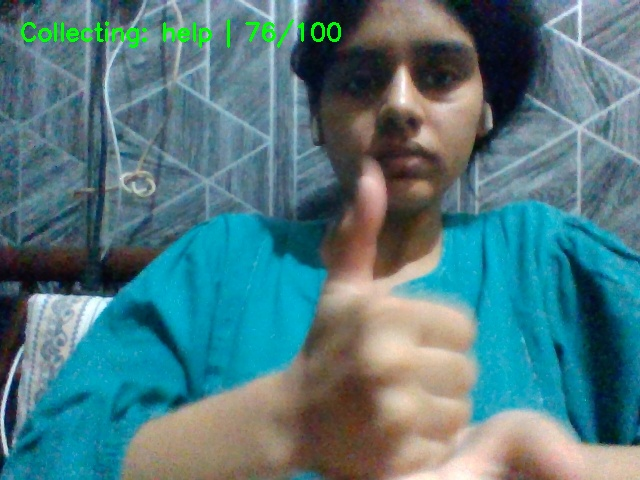help: (287, 152, 573, 480)
